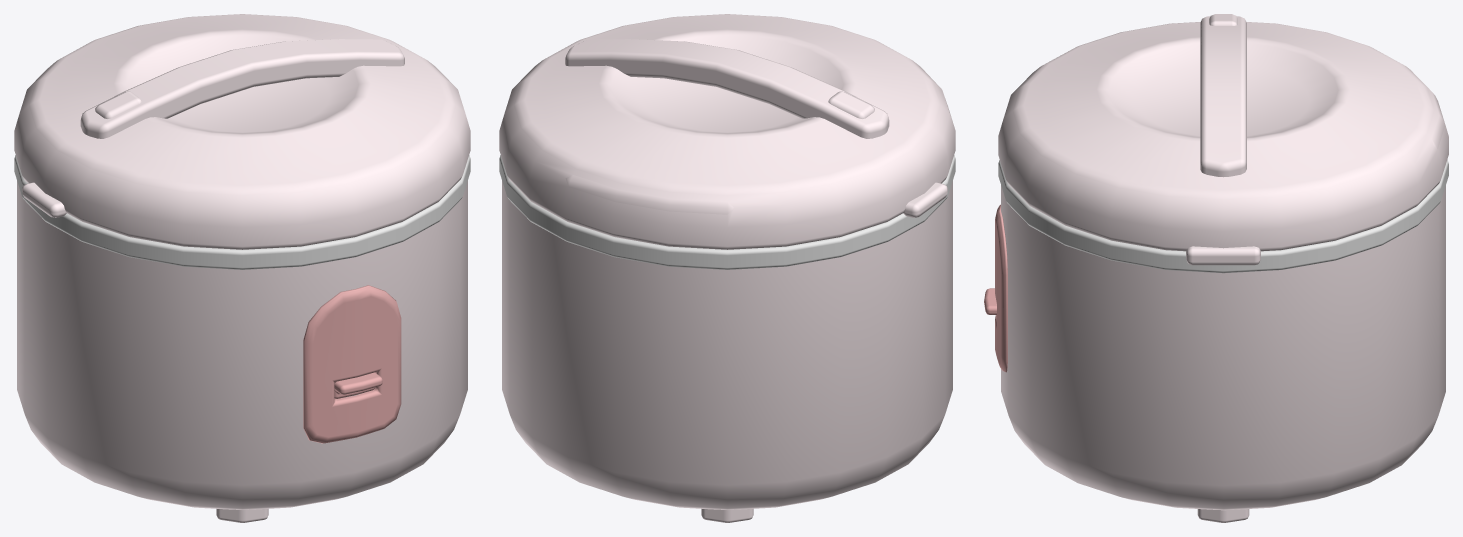
The model's file is rice_cooker.fbx.
3 views of the same model, side by side, from view 1: azimuth 30°, elevation 25°; view 2: azimuth 150°, elevation 25°; view 3: azimuth 270°, elevation 25° (orthographic).
Visible parts, largest first — view 1: RiceCooker_body, RiceCooker_top; view 2: RiceCooker_body, RiceCooker_top; view 3: RiceCooker_body, RiceCooker_top.
Boxes of the visible parts, bbox=[...] form: RiceCooker_body: bbox=[14, 155, 470, 522]; RiceCooker_top: bbox=[14, 14, 470, 249]; RiceCooker_body: bbox=[499, 155, 955, 522]; RiceCooker_top: bbox=[499, 14, 955, 249]; RiceCooker_body: bbox=[984, 160, 1448, 522]; RiceCooker_top: bbox=[998, 14, 1448, 265].
Size of the model in its own units: 35.48 by 32.19 by 35.31.
